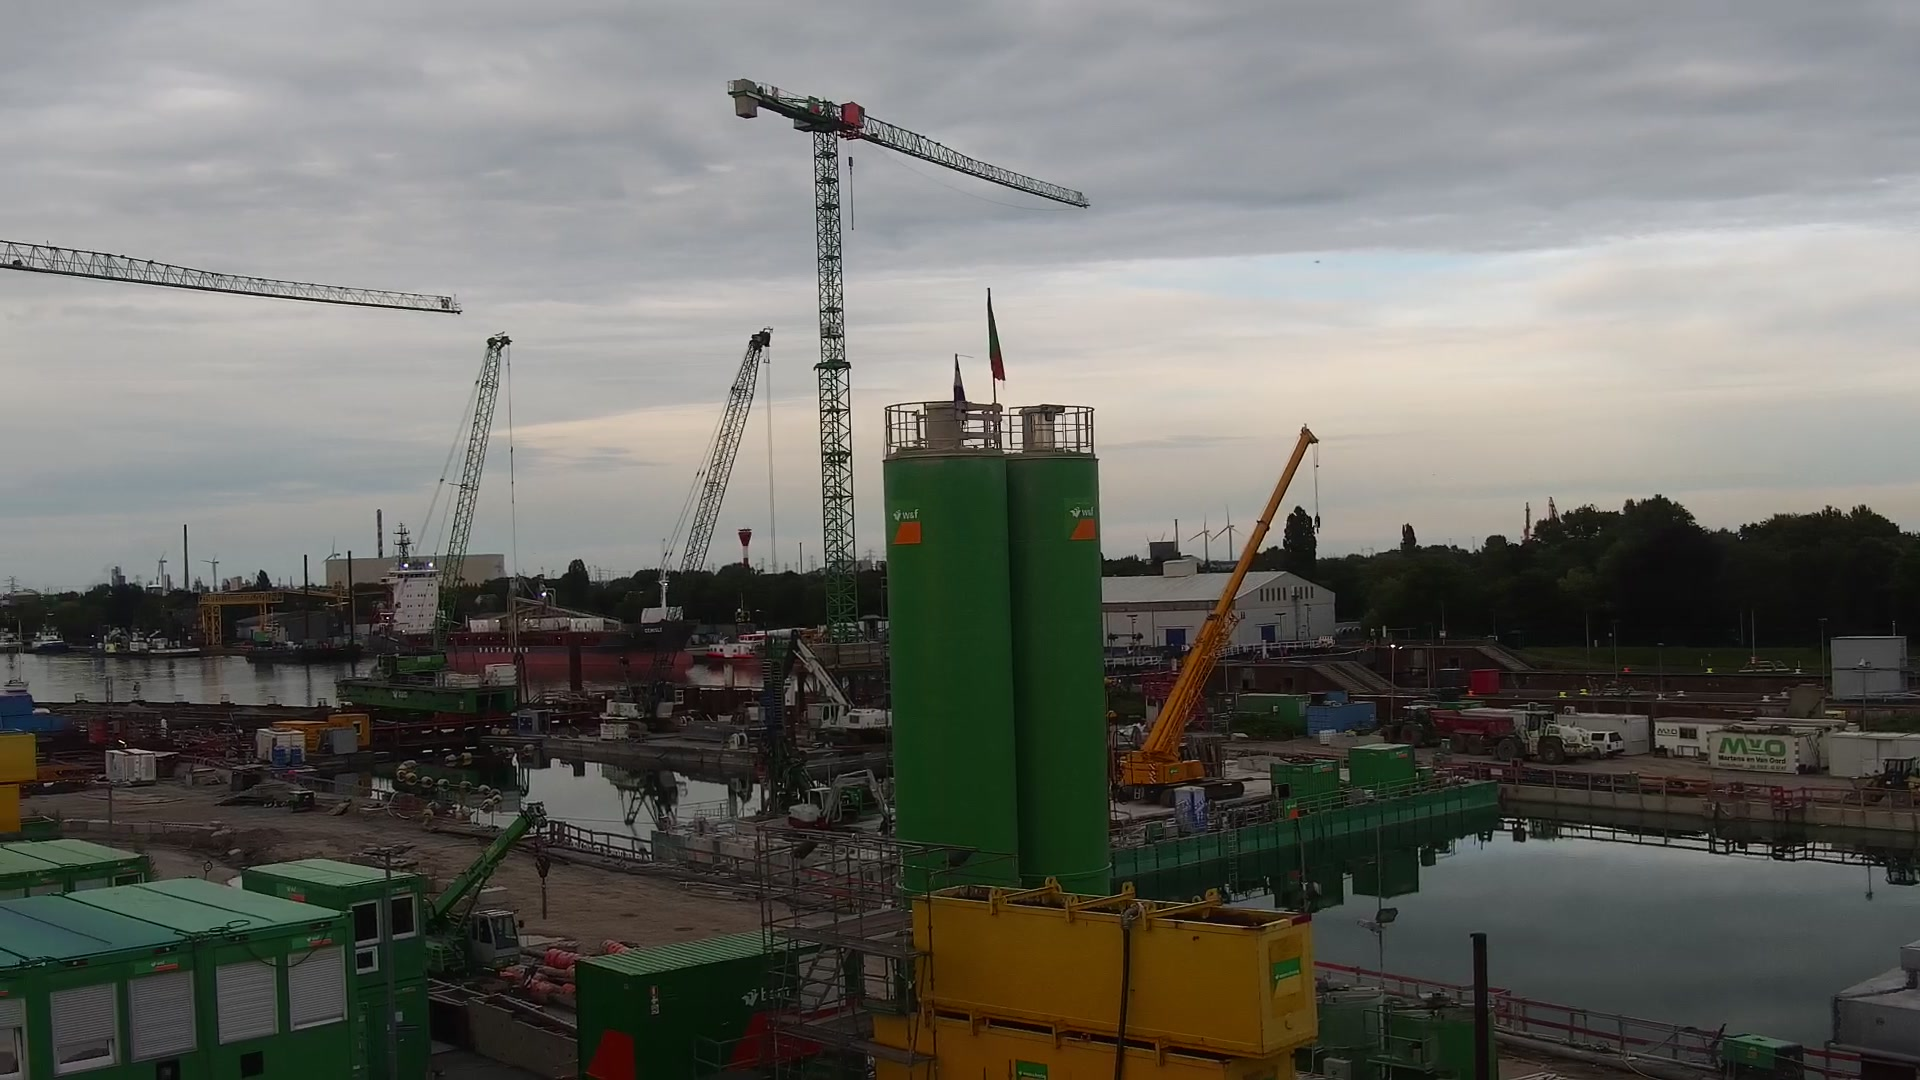land: (421, 800, 549, 976), (781, 626, 891, 746), (785, 765, 891, 837), (1486, 707, 1586, 762), (1847, 756, 1920, 806), (1379, 704, 1441, 746), (1586, 729, 1625, 758)
sea: (367, 520, 702, 667), (233, 601, 363, 663), (702, 630, 769, 659), (30, 622, 69, 655)
